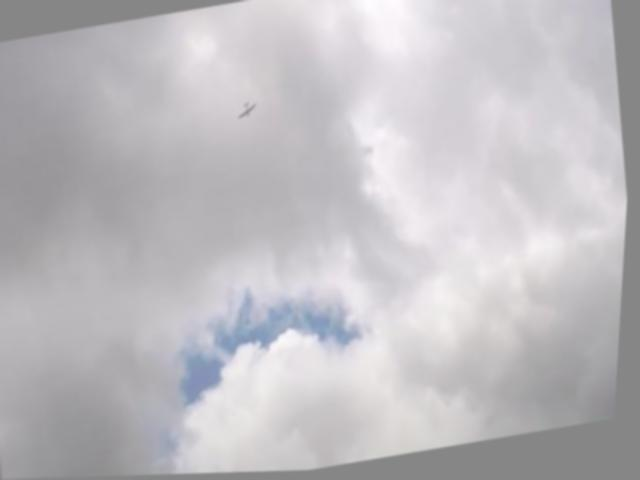iha: (236, 100, 264, 126)
